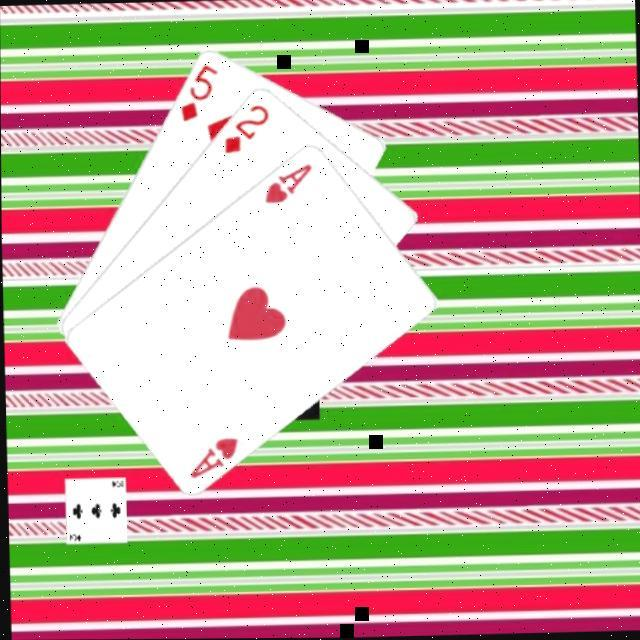2D: (217, 101, 270, 158)
5D: (173, 62, 219, 125)
AH: (182, 435, 239, 483), (257, 162, 314, 208)
